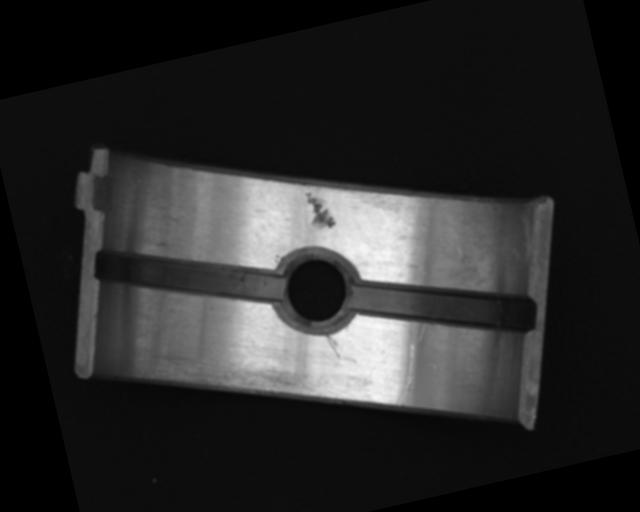bruise: (303, 187, 337, 233)
gap: (92, 213, 284, 338), (348, 248, 538, 368)
hole: (269, 244, 367, 344)
nick: (383, 340, 429, 407), (324, 330, 342, 361)
scratch: (147, 334, 310, 428)
